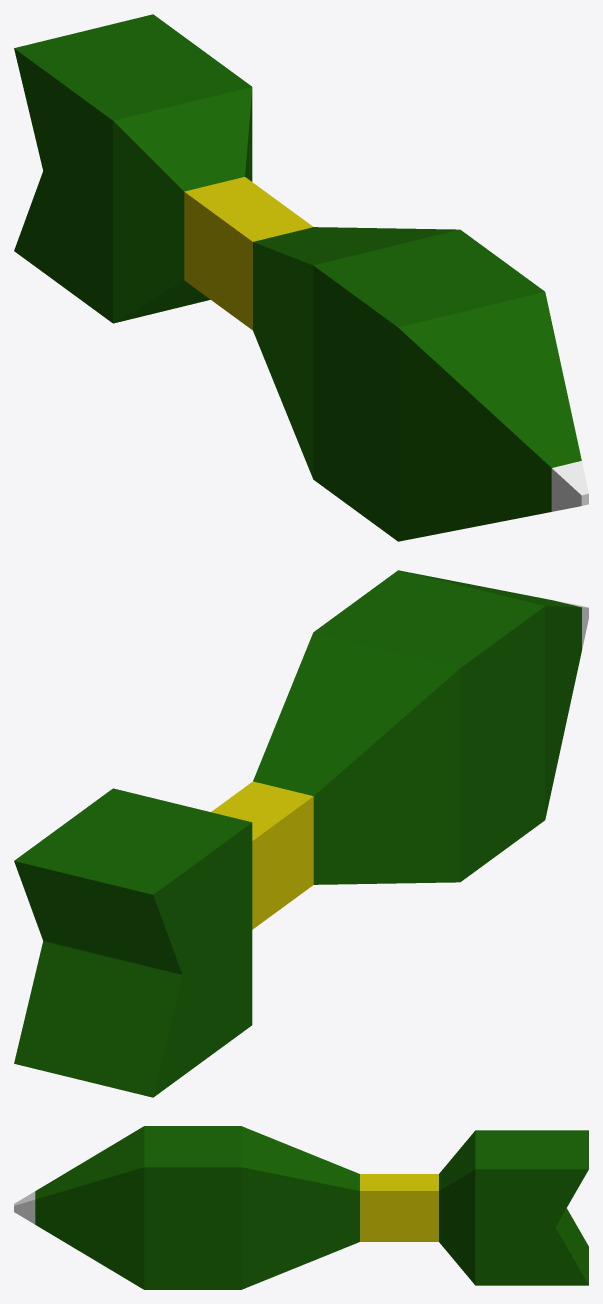
The model's file is projetilbazuka.fbx.
The picture shows the model from 3 angles, top to bottom: view 1: azimuth 30°, elevation 25°; view 2: azimuth 150°, elevation 25°; view 3: azimuth 270°, elevation 25°; orthographic projection. The views are drawn at different scales.
Parts seen in each view (by area): view 1: Cube; view 2: Cube; view 3: Cube.
Boxes of the visible parts, <box> form: Cube: <box>14,14,588,541</box>; Cube: <box>14,570,588,1097</box>; Cube: <box>14,1126,588,1289</box>.
Bounding box in the file's own units: 15.9 × 22.13 × 93.99.
